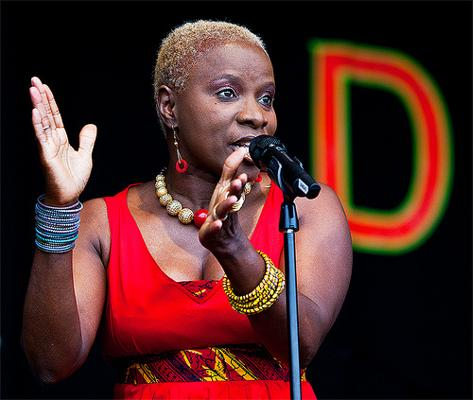person: (20, 21, 357, 400)
